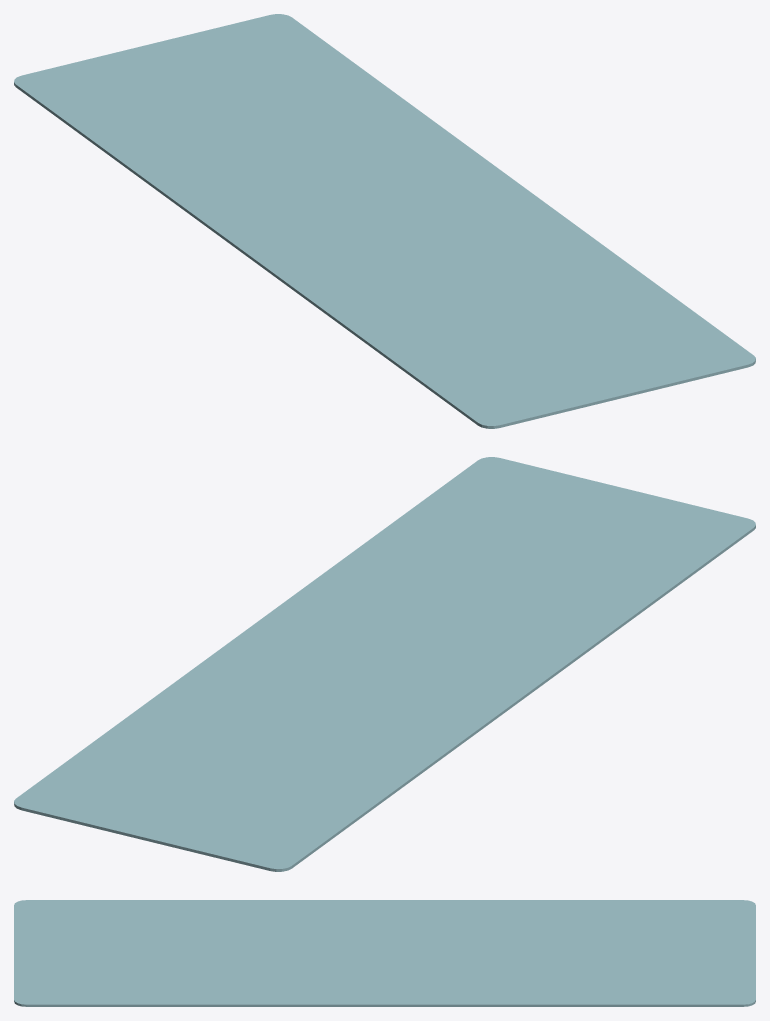
Rendered from yoga_mat.glb.
3 renders of one model, top to bottom at view 1: azimuth 30°, elevation 25°; view 2: azimuth 150°, elevation 25°; view 3: azimuth 270°, elevation 25°, orthographic. The views are drawn at different scales.
Visible parts, largest first — view 1: tint_mat; view 2: tint_mat; view 3: tint_mat.
Part boxes in pixels (x1=…): tint_mat: x1=14, y1=14, x2=755, y2=428; tint_mat: x1=14, y1=457, x2=755, y2=871; tint_mat: x1=14, y1=900, x2=755, y2=1006.
Size of the model in its own units: 0.61 by 0.00603 by 1.83.
